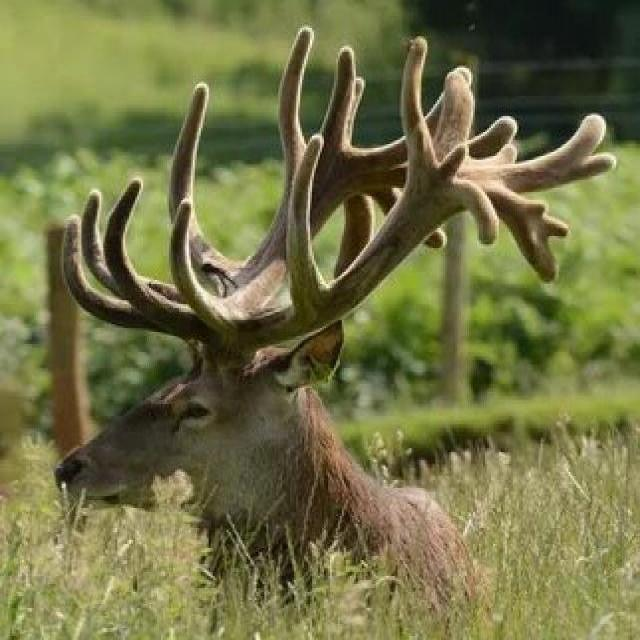deer: (64, 122, 526, 640)
